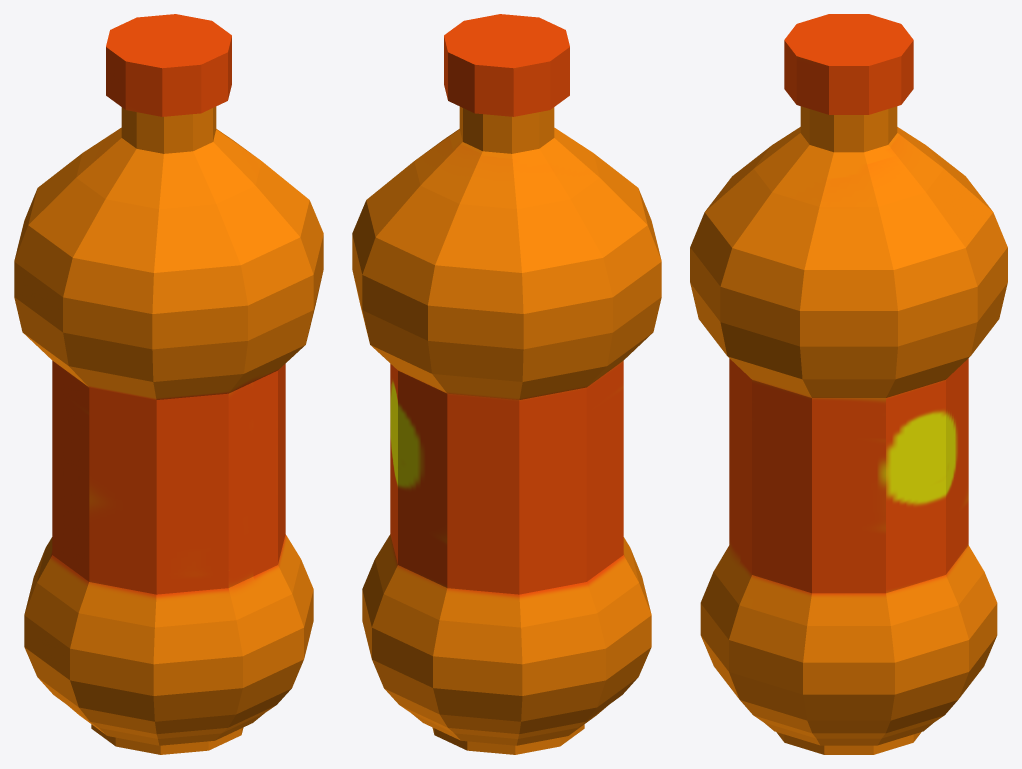
File: Orange Bottle.glb
The picture shows the model from 3 angles, left to right: view 1: azimuth 30°, elevation 25°; view 2: azimuth 150°, elevation 25°; view 3: azimuth 270°, elevation 25°; orthographic projection.
Visible parts, largest first — view 1: Cylinder; view 2: Cylinder; view 3: Cylinder.
Part boxes in pixels (bbox=[...]): Cylinder: bbox=[14, 14, 323, 754]; Cylinder: bbox=[352, 14, 661, 754]; Cylinder: bbox=[690, 14, 1007, 754].
Bounding box in the file's own units: 3.79 × 9.45 × 3.98.
1 material, 1 textured.
